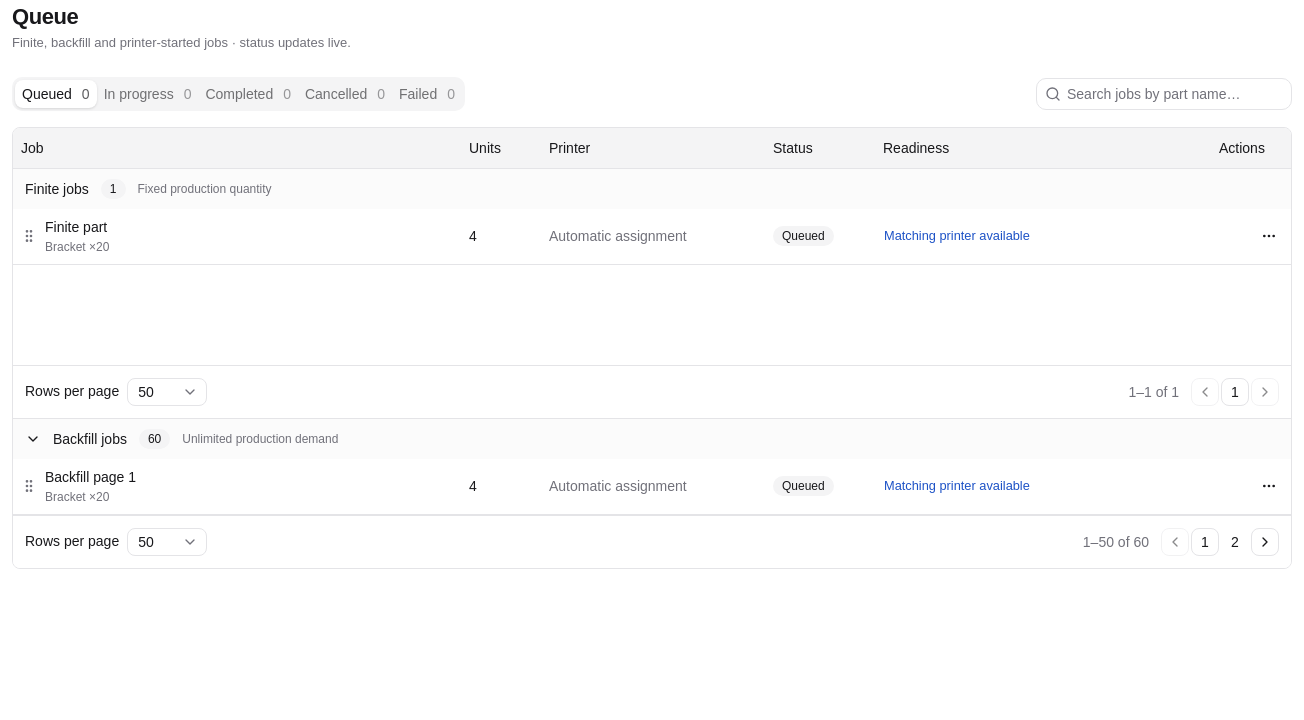
Scenario: QueuePage › collapses backfill details and restores its current page with keyboard controls
The width and height of the screenshot is (1304, 720).
Check: the link "Backfill page 1" is shown, box 45,469 -> 136,485
Click the button named "Next backfill jobs page" at point(1265, 542), box 1251,528 -> 1279,556
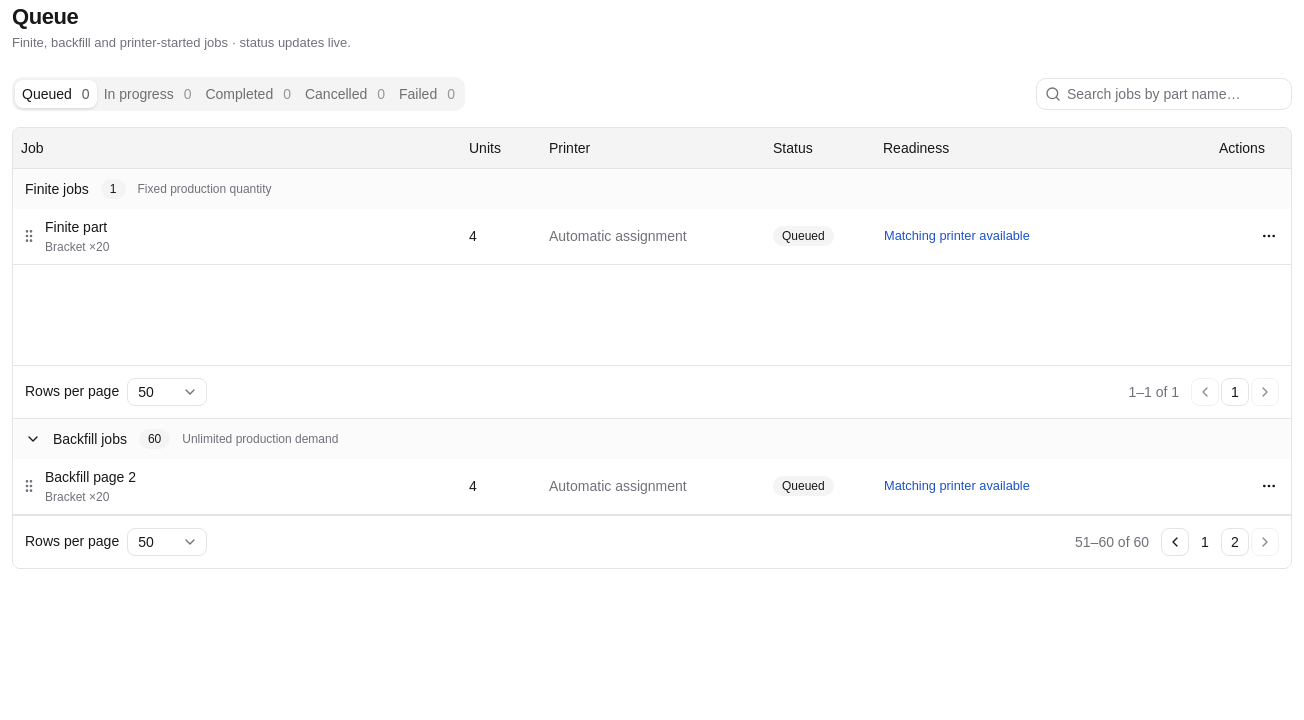
Check: the link "Backfill page 2" is shown, box 45,469 -> 136,485
Click the button with aria-label "Collapse backfill jobs" at point(90, 438), box 13,418 -> 1291,458
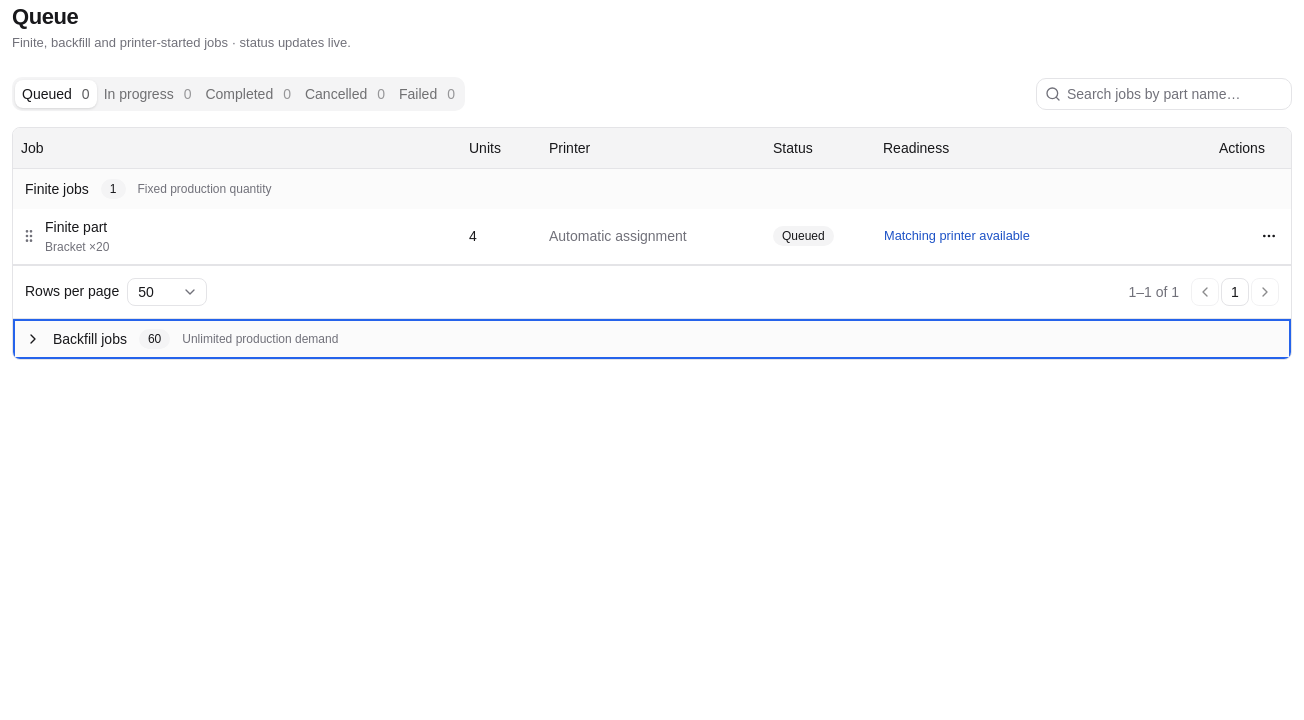
Check: the button named "Collapse backfill jobs" shows "60", box 13,318 -> 1291,358
Check: the button named "Collapse backfill jobs" is collapsed, box 13,318 -> 1291,358
Press Enter
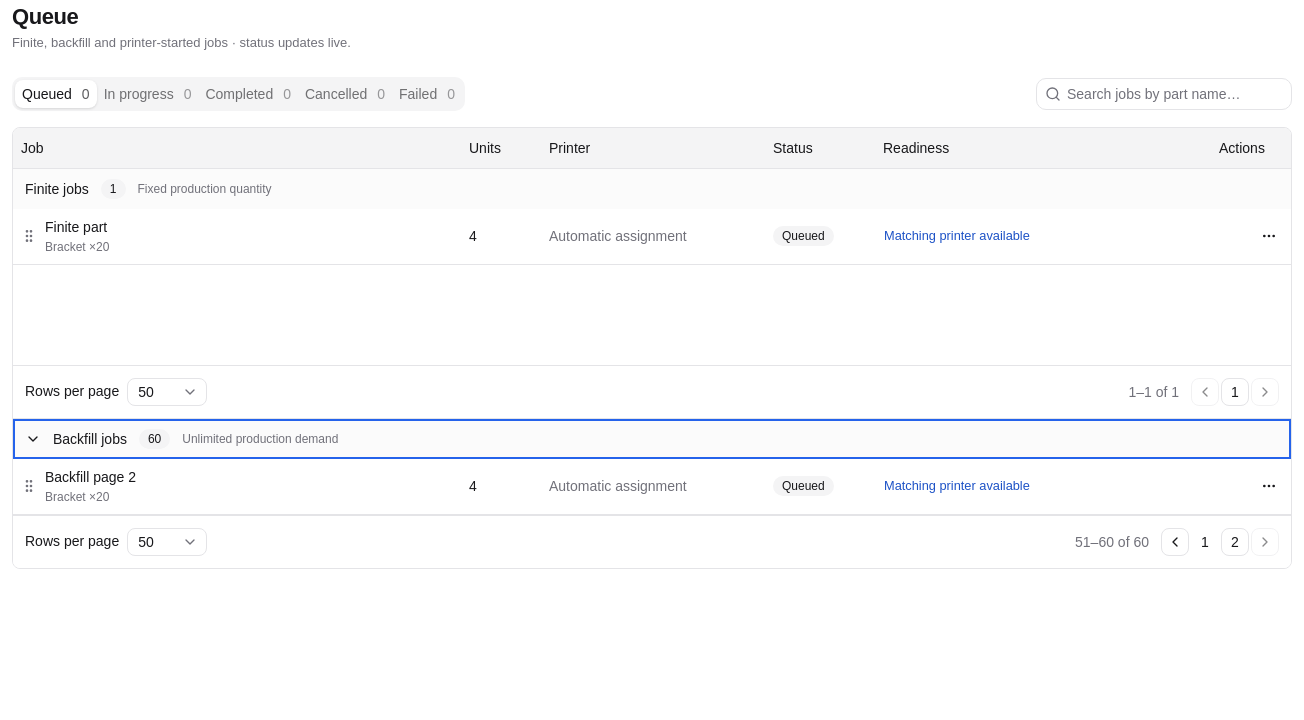
Check: the button with aria-label "Collapse backfill jobs" is expanded, box 13,418 -> 1291,458
Check: the link "Backfill page 2" is shown, box 45,469 -> 136,485
Check: the navigation bar named "Backfill jobs pagination" shows "51–60 of 60", box 1075,534 -> 1149,550
